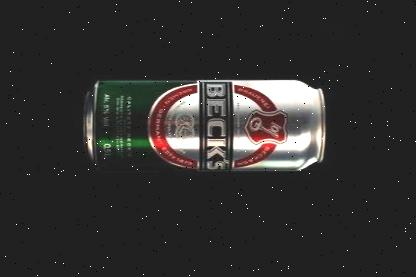Can: (81, 77, 330, 174)
